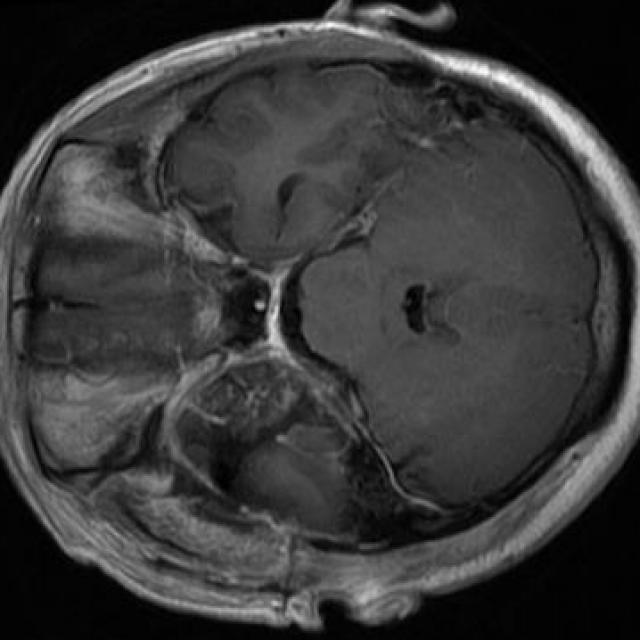glioma: (175, 358, 348, 535)
